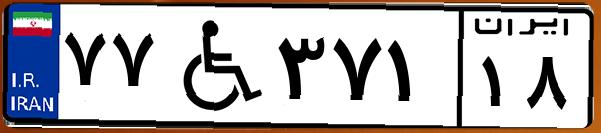1: (385, 28, 445, 110), (475, 38, 525, 113)
3: (270, 28, 330, 110)
7: (330, 28, 385, 110), (57, 26, 110, 100), (110, 28, 158, 98)
8: (525, 38, 570, 115)
ژ (معلولین و جانبازان): (158, 12, 270, 120)
